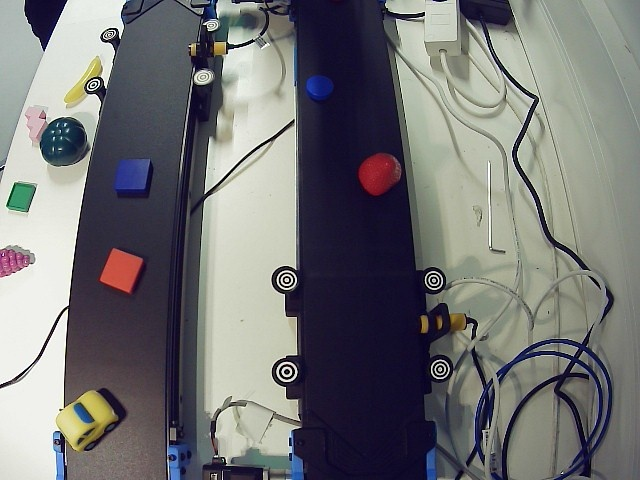Blue_Circle: (301, 71, 342, 106)
Blue_Square: (112, 157, 157, 194)
Red_Square: (95, 246, 150, 294)
Unknown: (54, 387, 123, 452), (361, 150, 409, 201)
